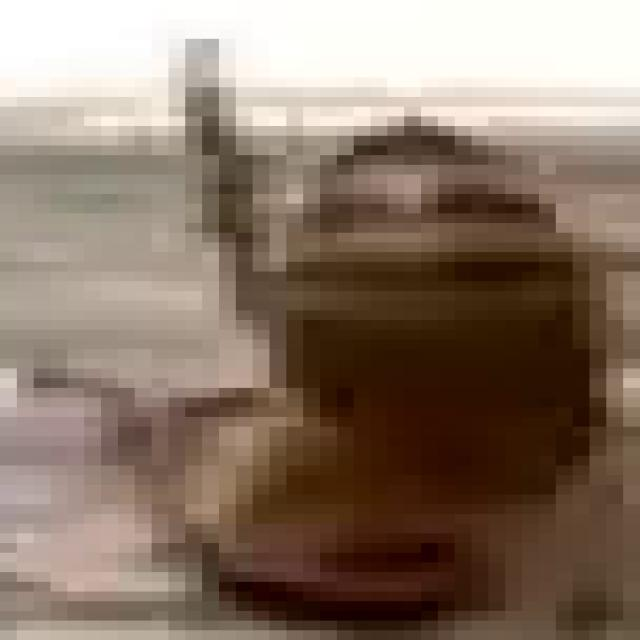honeybee: (196, 118, 584, 619)
